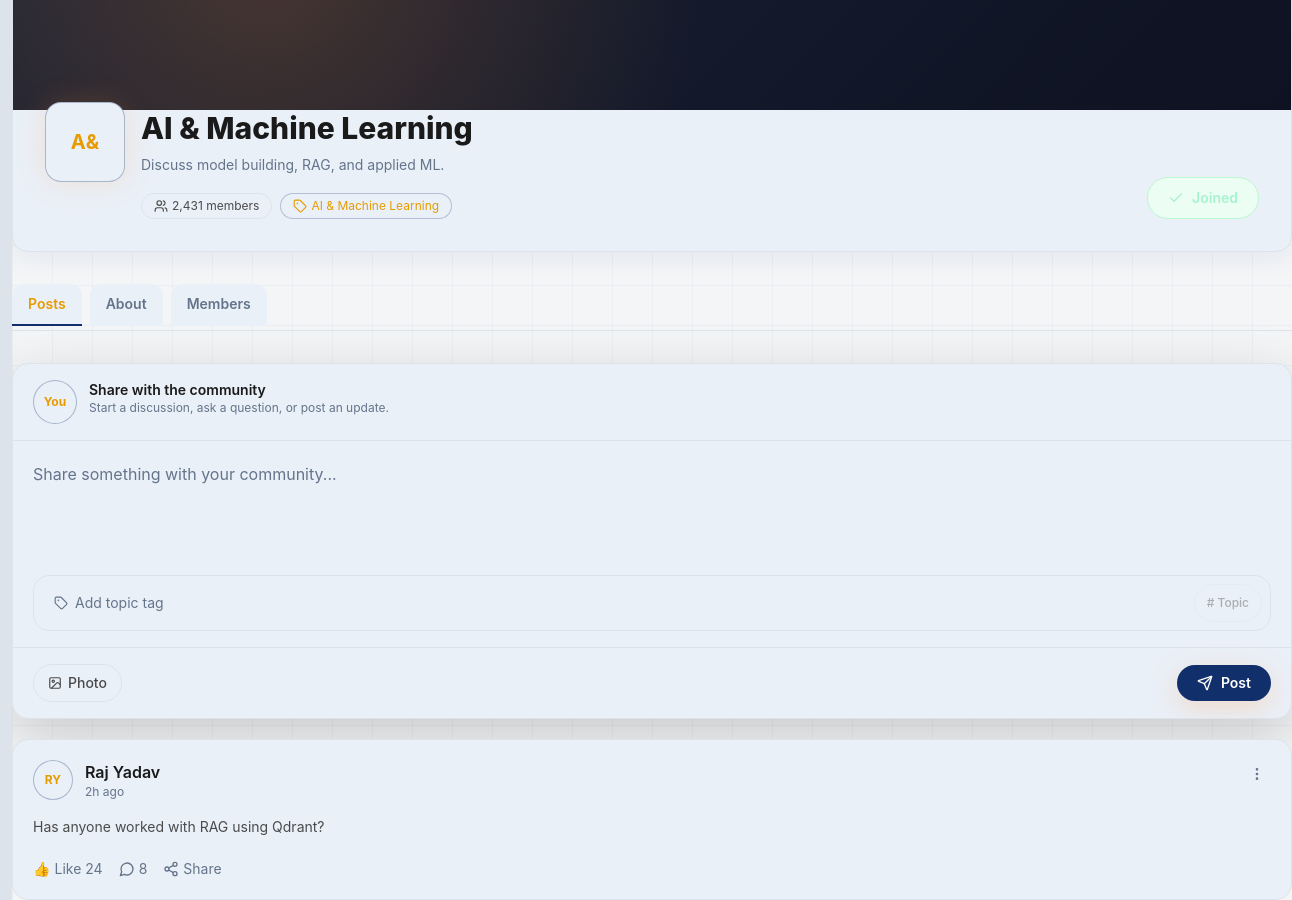
Test: CommunityDetailPage › share copies a stable community post URL when Web Share is unavailable
(page scrolled)
Expected: the text "Has anyone worked with RAG using Qdrant?" is shown, [33, 818, 324, 835]
Click the button "Share" at (192, 868), box [163, 858, 222, 878]
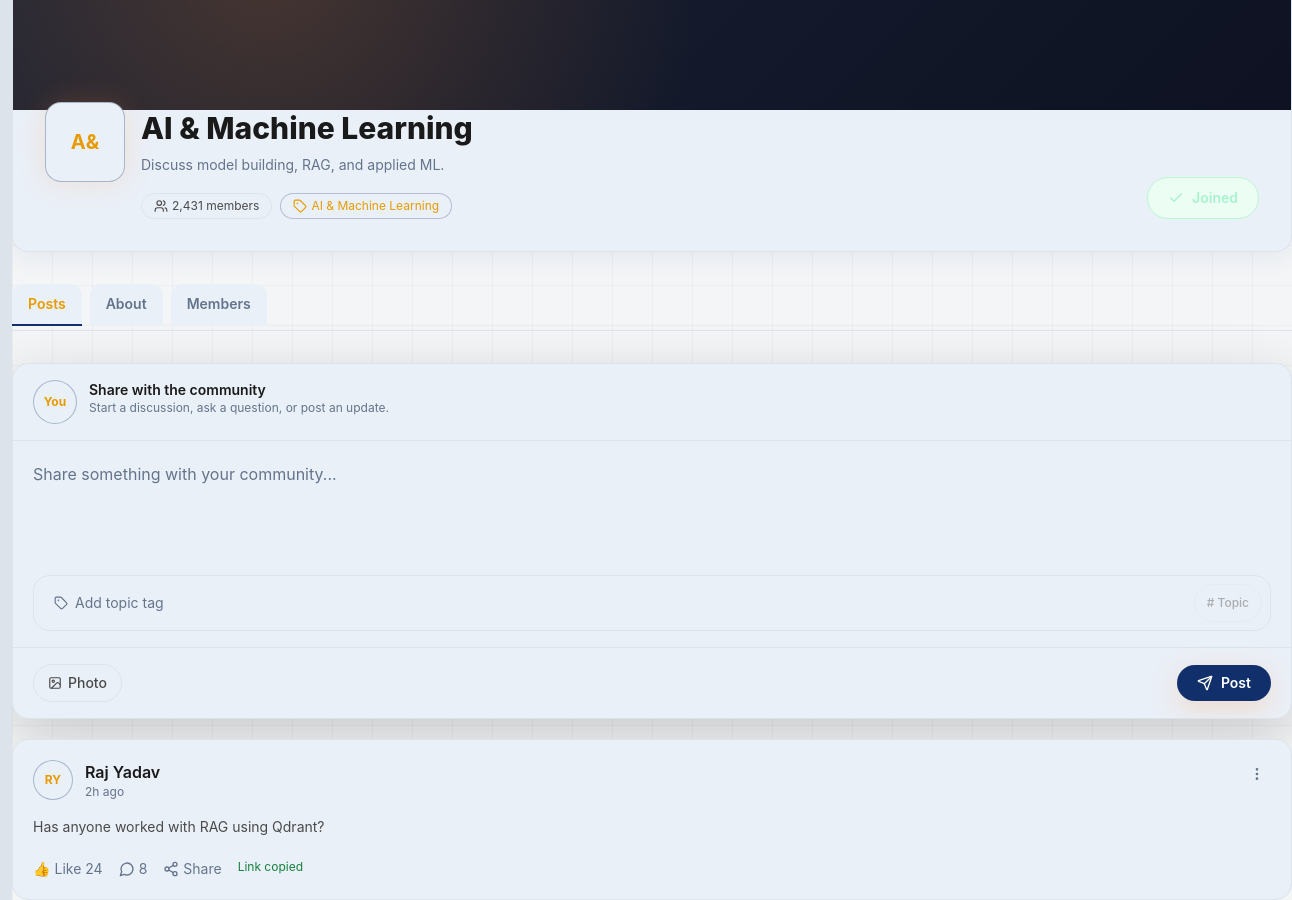
Result: the text "Link copied" is shown at [238, 858, 303, 878]
